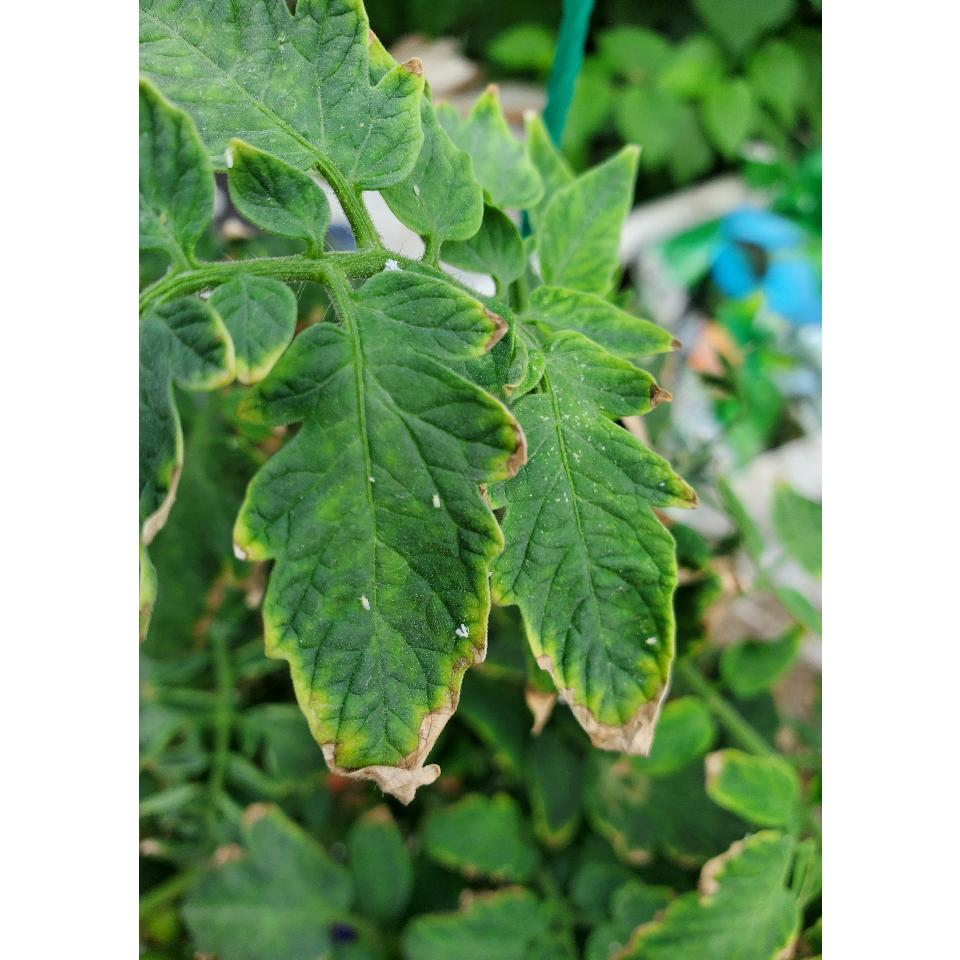tomato_bacterial_blight: (239, 262, 509, 816), (505, 294, 706, 824)
